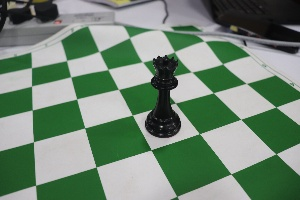black_queen: (138, 42, 187, 143)
